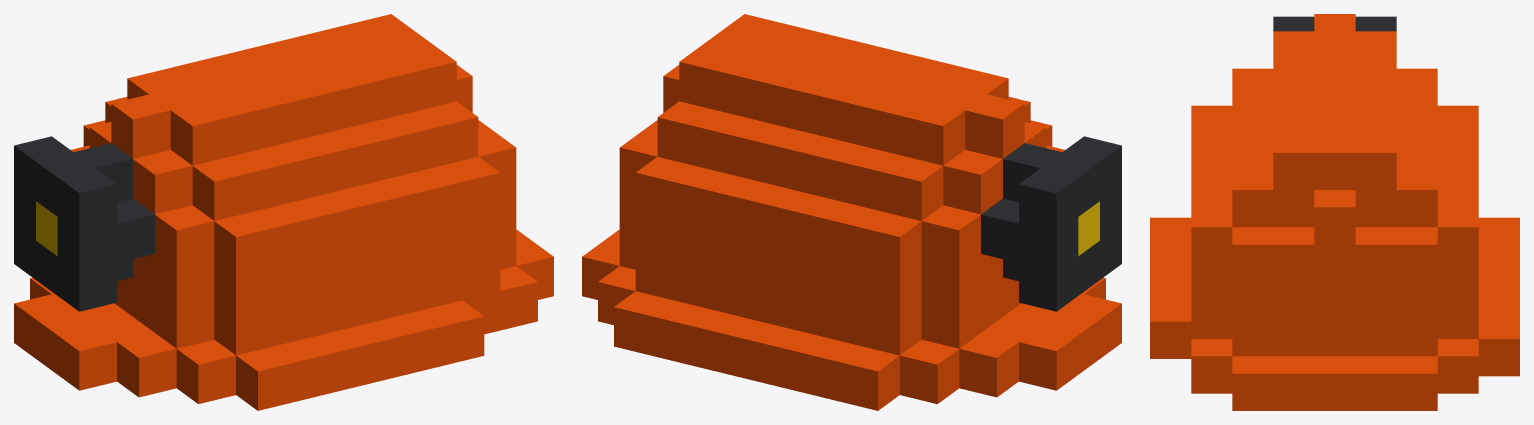
Rendered from Minero-0.obj.
3 renders of one model, left to right at view 1: azimuth 30°, elevation 25°; view 2: azimuth 150°, elevation 25°; view 3: azimuth 270°, elevation 25°, orthographic. The views are drawn at different scales.
Size of the model in its own units: 1.2 by 0.6 by 0.9.
Materials: 1 (1 with a texture image).
